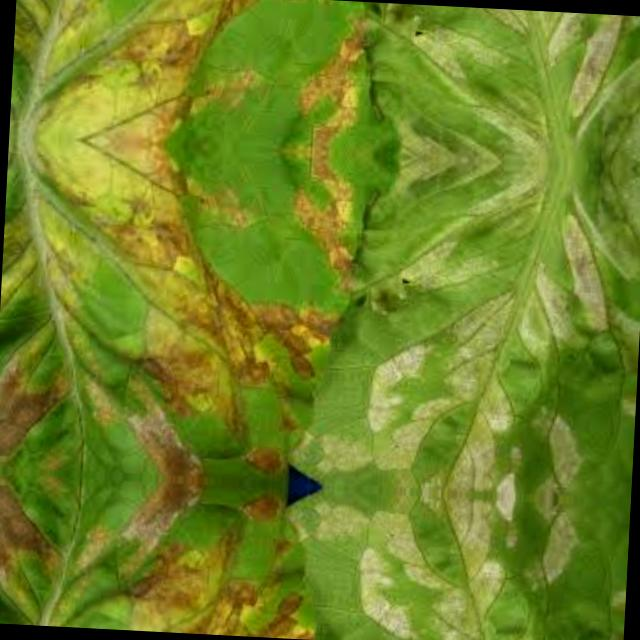Downy_mildew: (290, 151, 640, 502), (0, 147, 341, 480), (308, 0, 640, 169), (282, 485, 631, 640), (0, 476, 324, 640), (10, 0, 350, 141)
